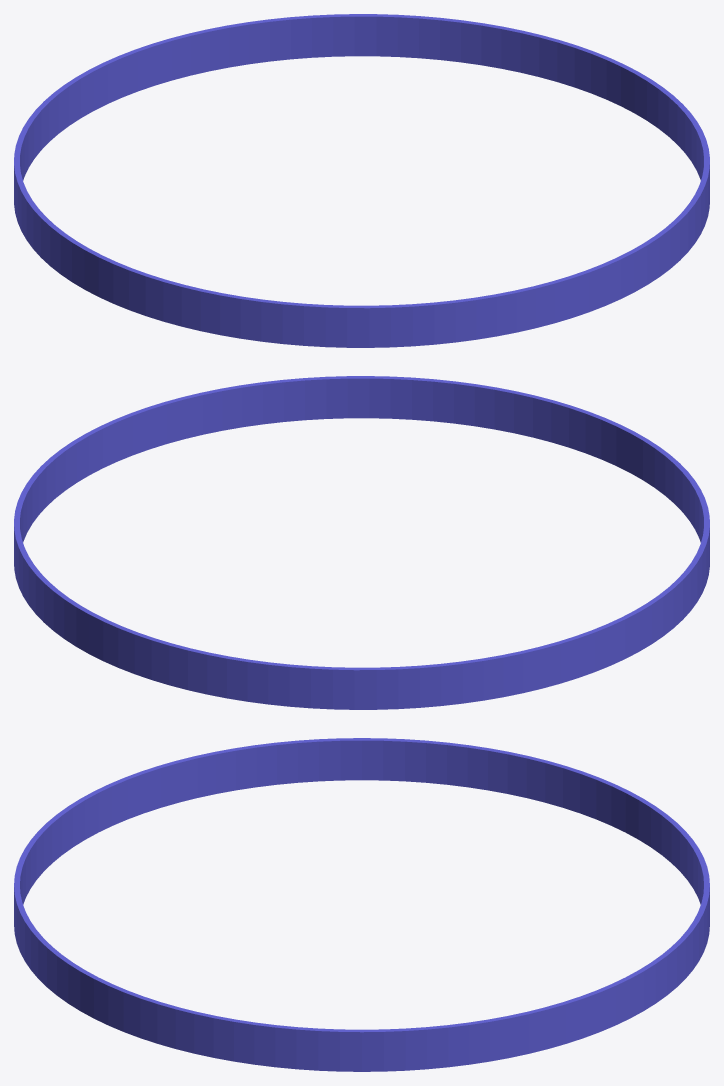
The model's file is MainMotor.obj.
3 views of the same model, one above another, from view 1: azimuth 30°, elevation 25°; view 2: azimuth 150°, elevation 25°; view 3: azimuth 270°, elevation 25° (orthographic).
Parts seen in each view (by area): view 1: MainMotor; view 2: MainMotor; view 3: MainMotor.
Part boxes in pixels (x1,y1,x2,y2): MainMotor: [14, 14, 709, 347]; MainMotor: [14, 376, 709, 709]; MainMotor: [14, 738, 709, 1071].
Size of the model in its own units: 4.76 by 0.3 by 4.76.
